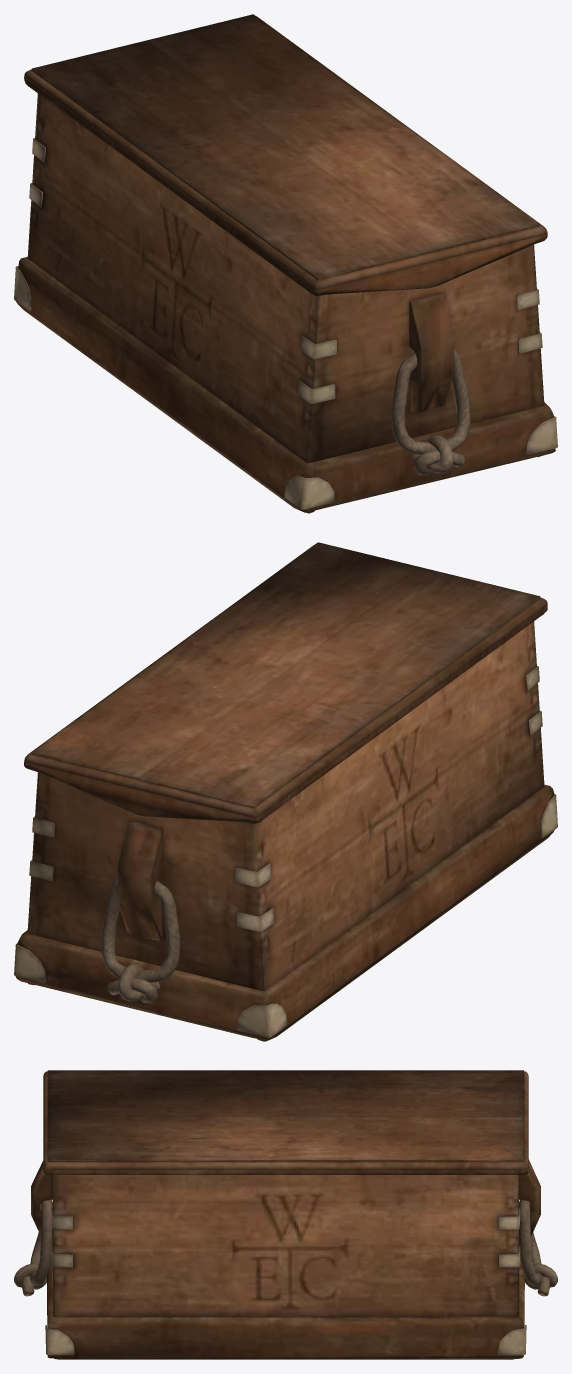
Rendered from crateWood.glb.
3 views of the same model, one above another, from view 1: azimuth 30°, elevation 25°; view 2: azimuth 150°, elevation 25°; view 3: azimuth 270°, elevation 25° (orthographic). The views are drawn at different scales.
Parts seen in each view (by area): view 1: wooden_crate_02_crate, wooden_crate_02_lid; view 2: wooden_crate_02_crate, wooden_crate_02_lid; view 3: wooden_crate_02_crate, wooden_crate_02_lid.
Part boxes in pixels (bbox=[...]): wooden_crate_02_crate: bbox=[14, 93, 557, 513]; wooden_crate_02_lid: bbox=[24, 14, 547, 296]; wooden_crate_02_crate: bbox=[14, 621, 557, 1041]; wooden_crate_02_lid: bbox=[24, 542, 547, 823]; wooden_crate_02_crate: bbox=[14, 1159, 557, 1359]; wooden_crate_02_lid: bbox=[43, 1070, 528, 1174].
Bounding box in the file's own units: 0.5291 × 0.4639 × 1.17.
1 material, 1 textured.
